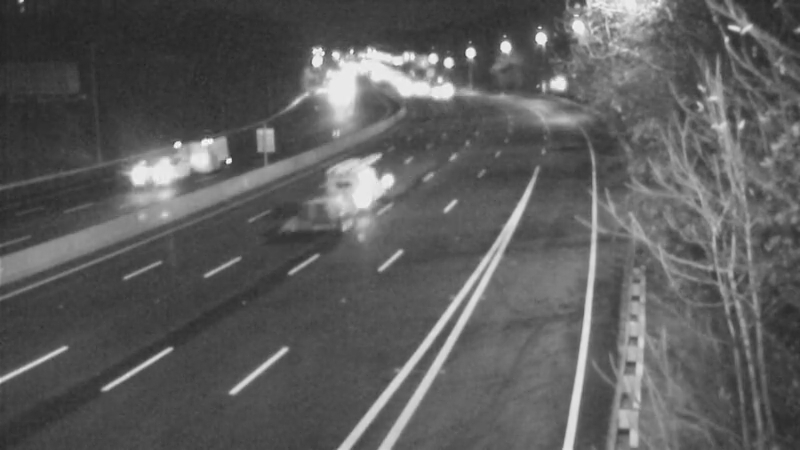vehicle: (306, 152, 386, 232), (123, 126, 203, 206)
